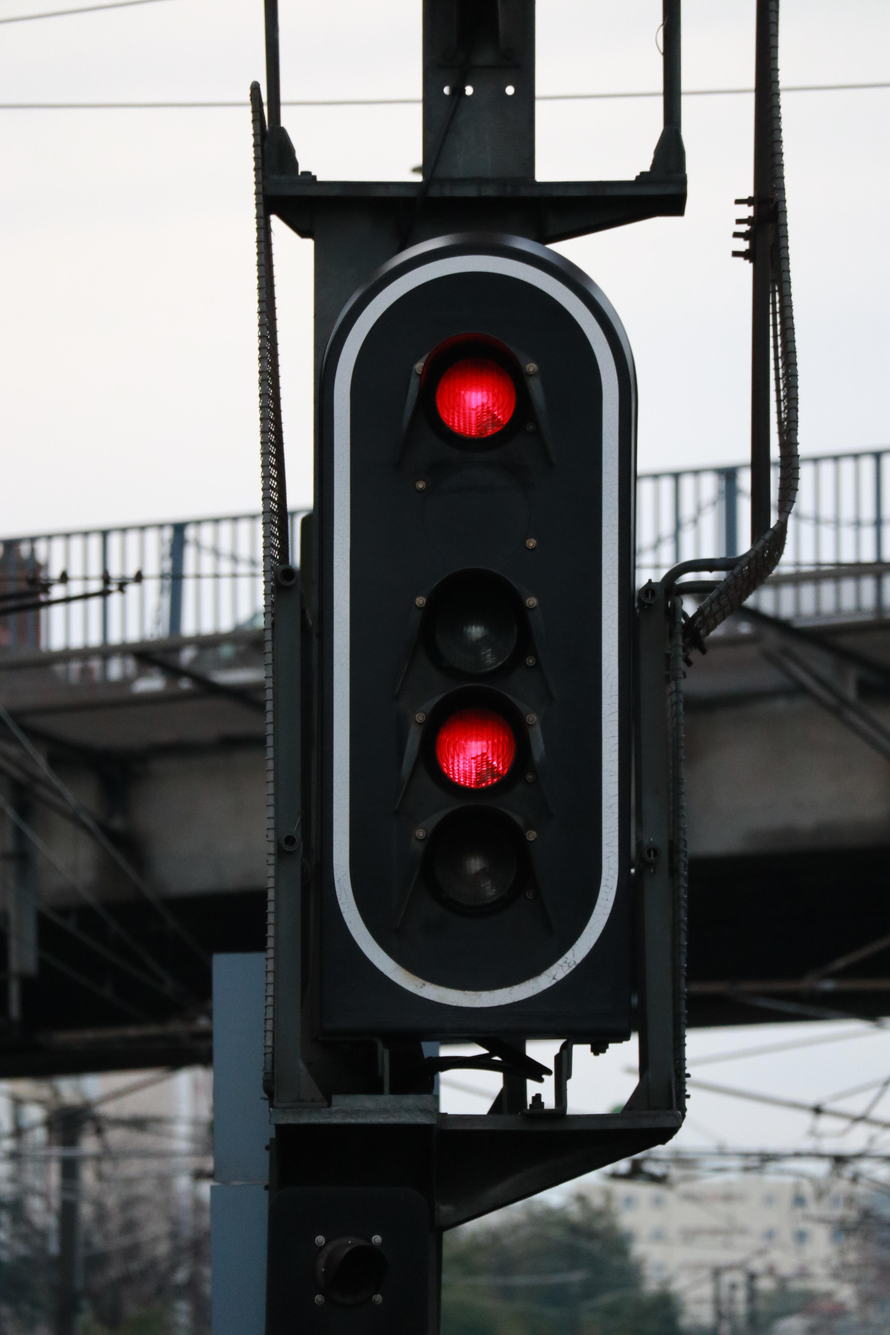red: (318, 245, 630, 970)
